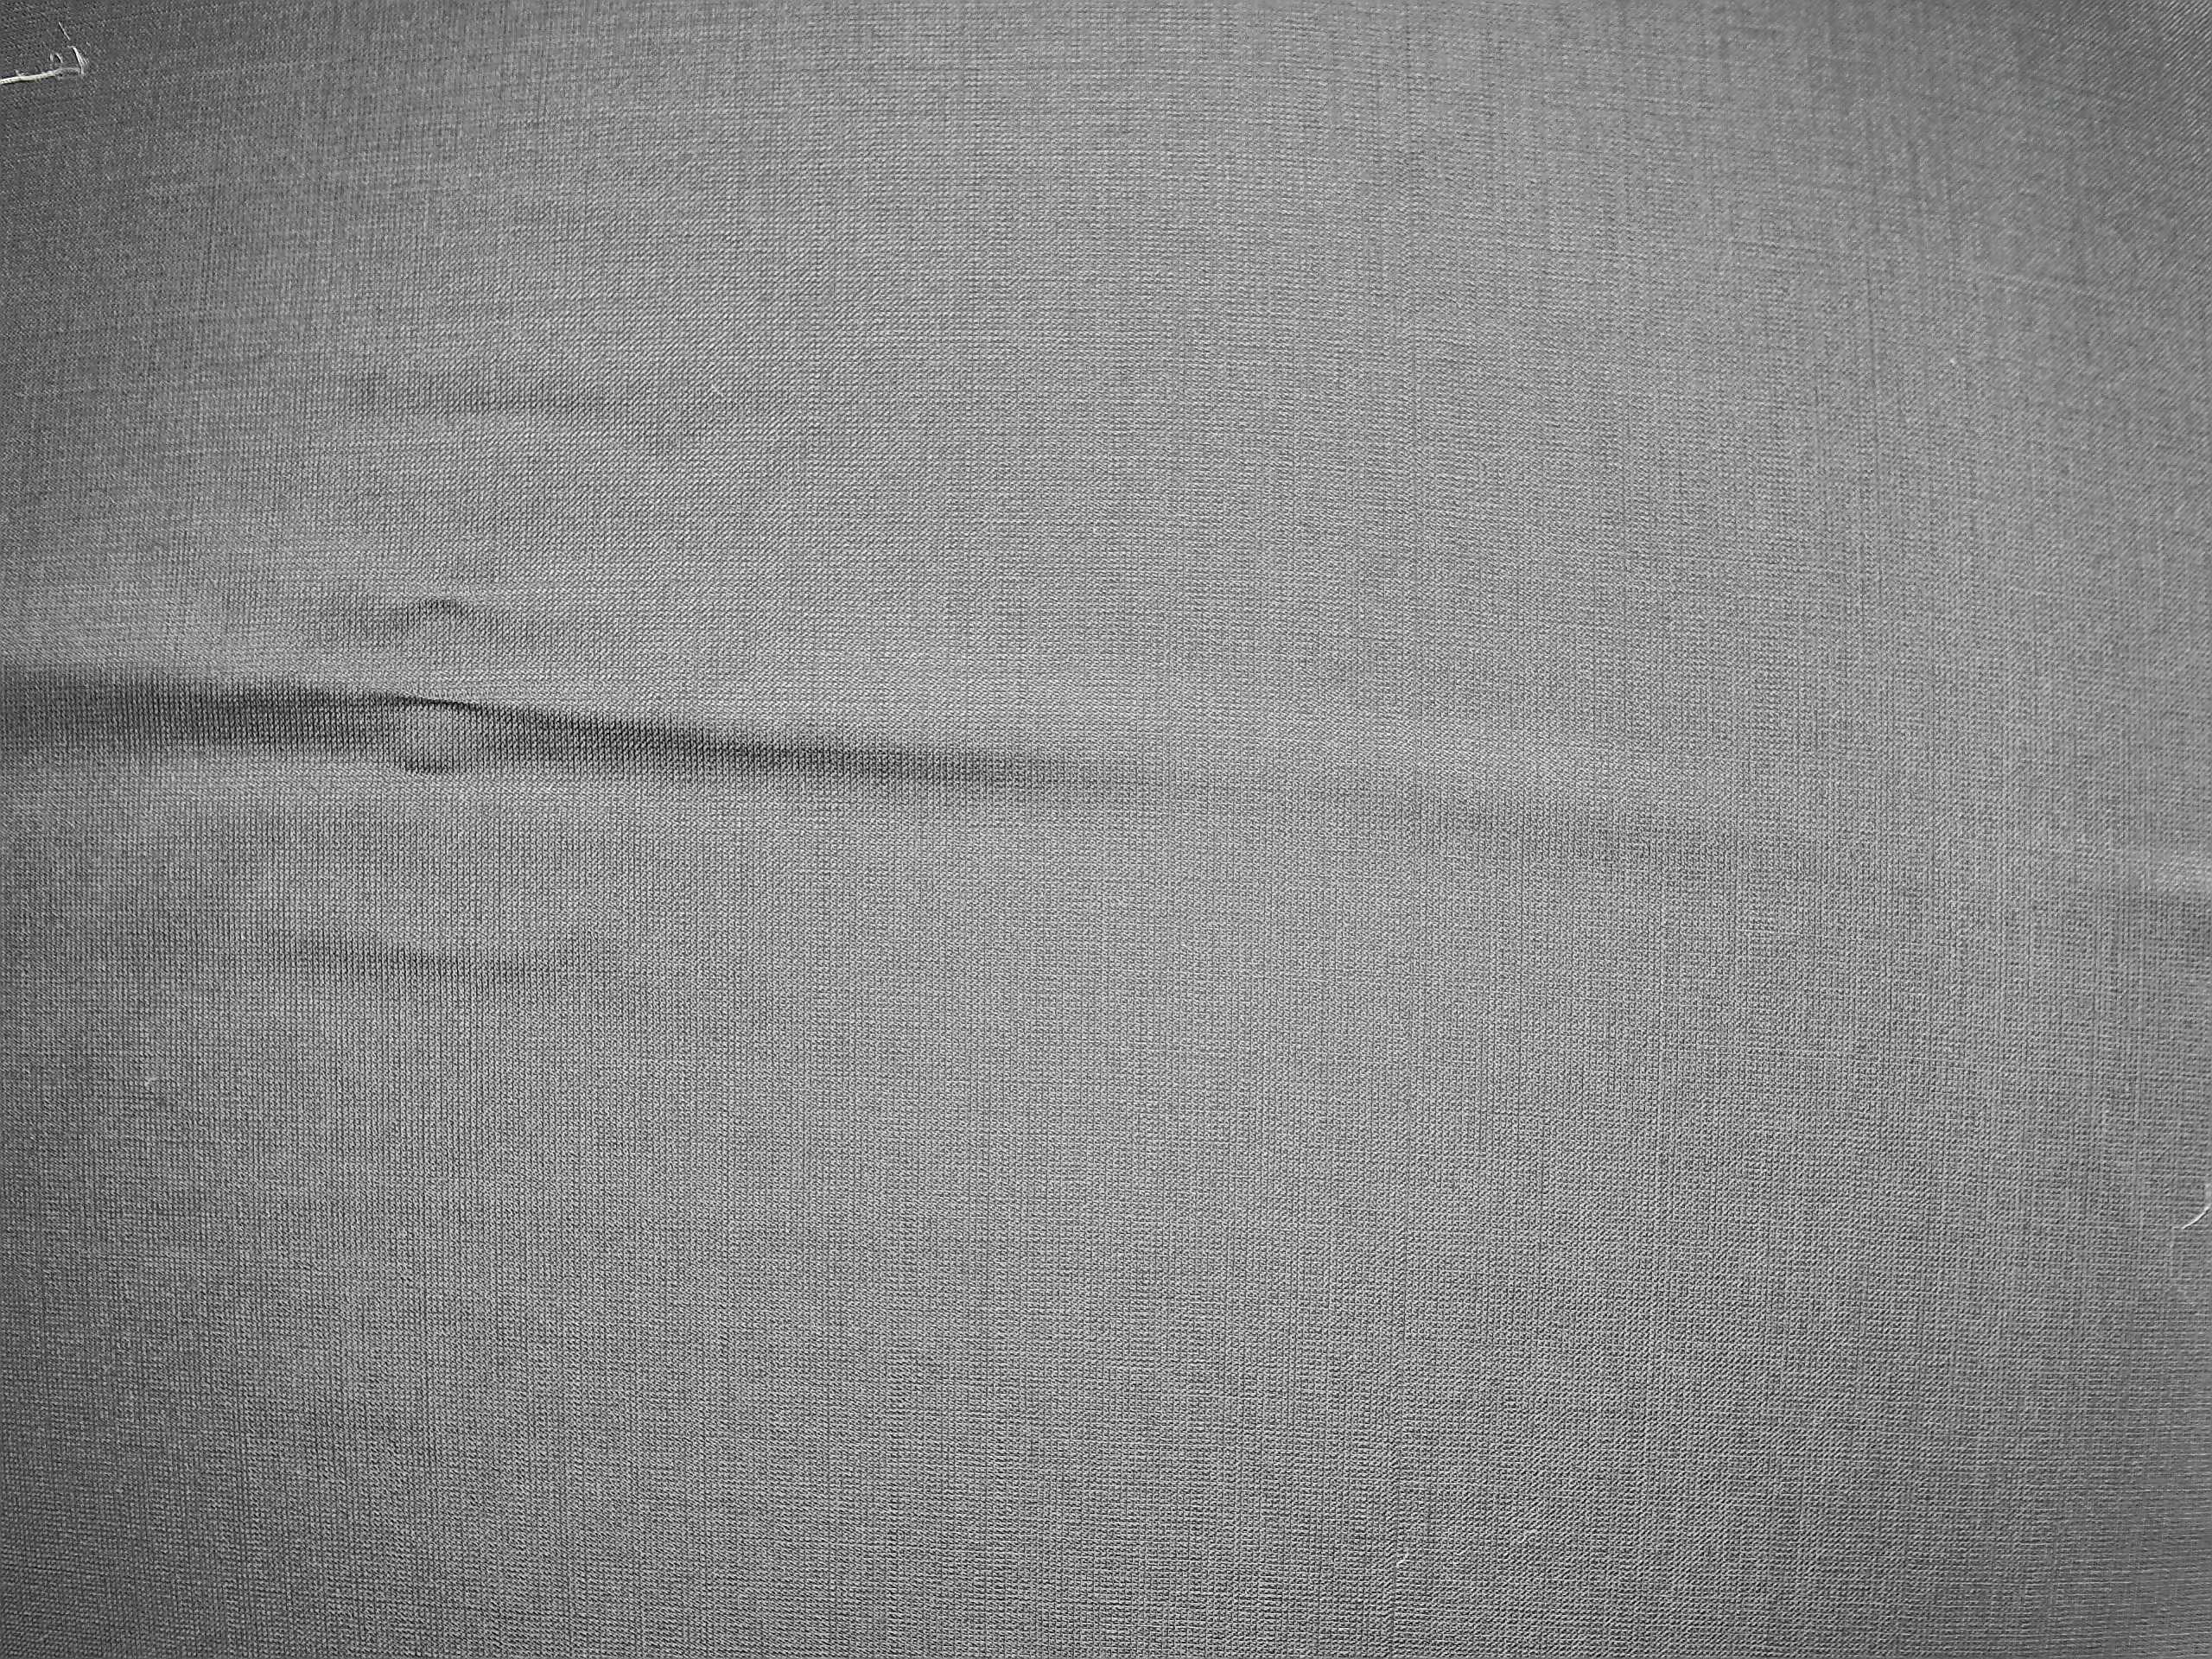others: (1515, 730, 2026, 819)
